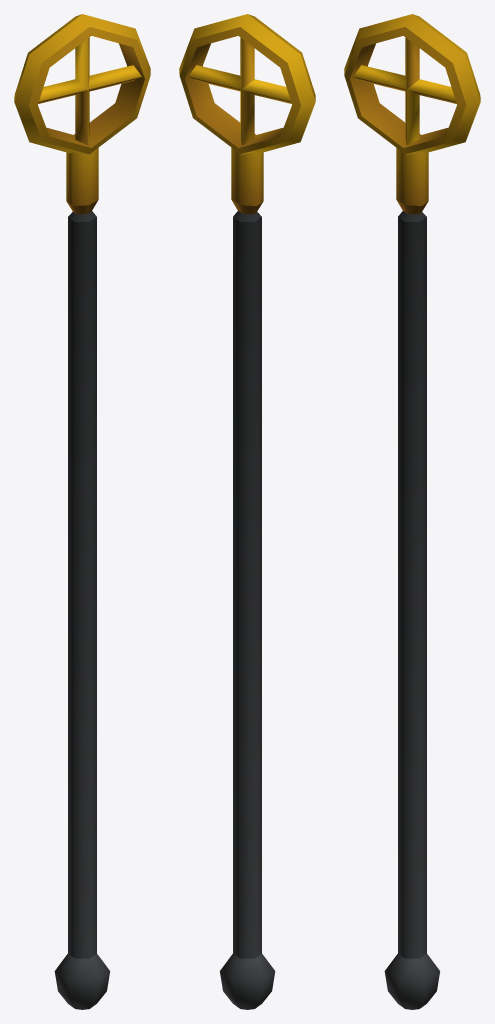
Rendered from Staff2h_09.fbx.
3 renders of one model, left to right at view 1: azimuth 30°, elevation 25°; view 2: azimuth 150°, elevation 25°; view 3: azimuth 330°, elevation 25°, orthographic.
Visible parts, largest first — view 1: Staff2h_09; view 2: Staff2h_09; view 3: Staff2h_09.
Boxes of the visible parts, <box> form: Staff2h_09: <box>14,14,150,1009</box>; Staff2h_09: <box>179,14,315,1009</box>; Staff2h_09: <box>344,14,480,1009</box>.
Bounding box in the file's own units: 24.43 × 170 × 8.62.
